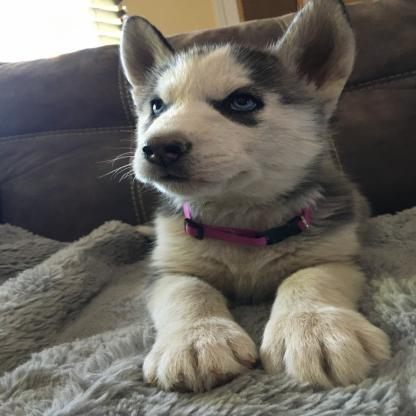husky: (105, 6, 393, 386)
